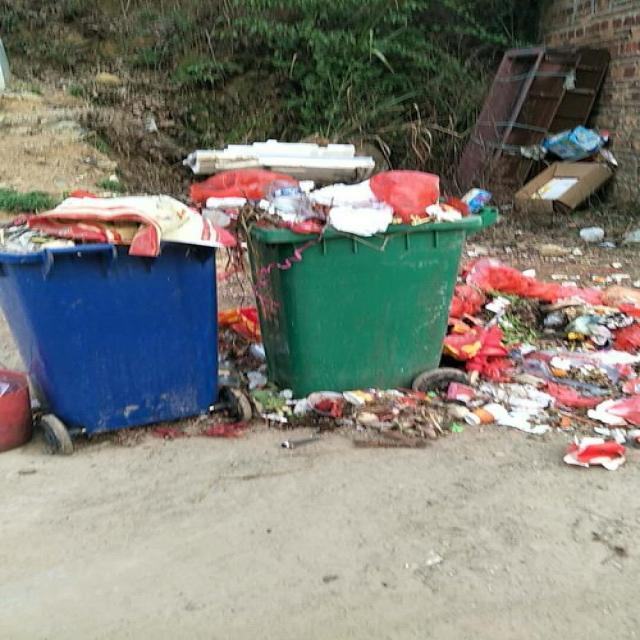garbage: (208, 258, 638, 472), (510, 124, 616, 214), (0, 364, 35, 456)
overflow: (184, 138, 494, 396), (0, 190, 232, 432)
